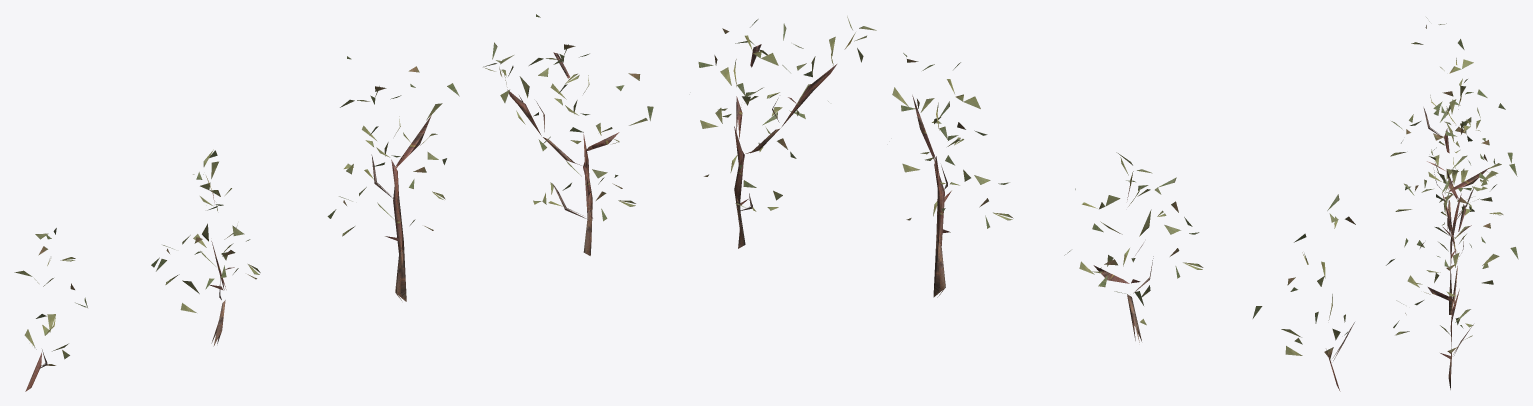
File: shrub_04.glb
The picture shows the model from 3 angles, left to right: view 1: azimuth 30°, elevation 25°; view 2: azimuth 150°, elevation 25°; view 3: azimuth 270°, elevation 25°; orthographic projection. The views are drawn at different scales.
Size of the model in its own units: 2.01 by 0.7794 by 0.4489.
1 material, 1 textured.
